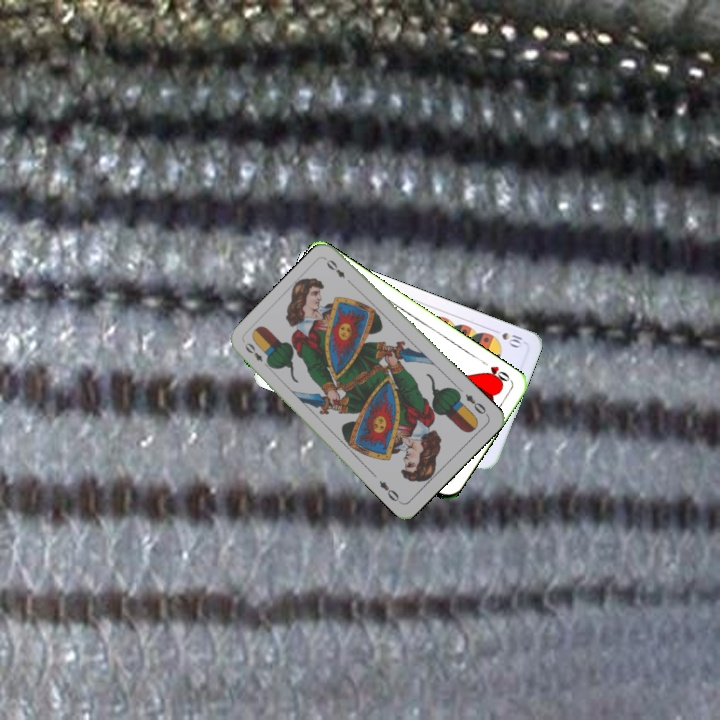EO: (240, 338, 273, 371), (461, 390, 491, 418)
HO: (478, 356, 514, 387)
S10: (488, 325, 527, 350)
